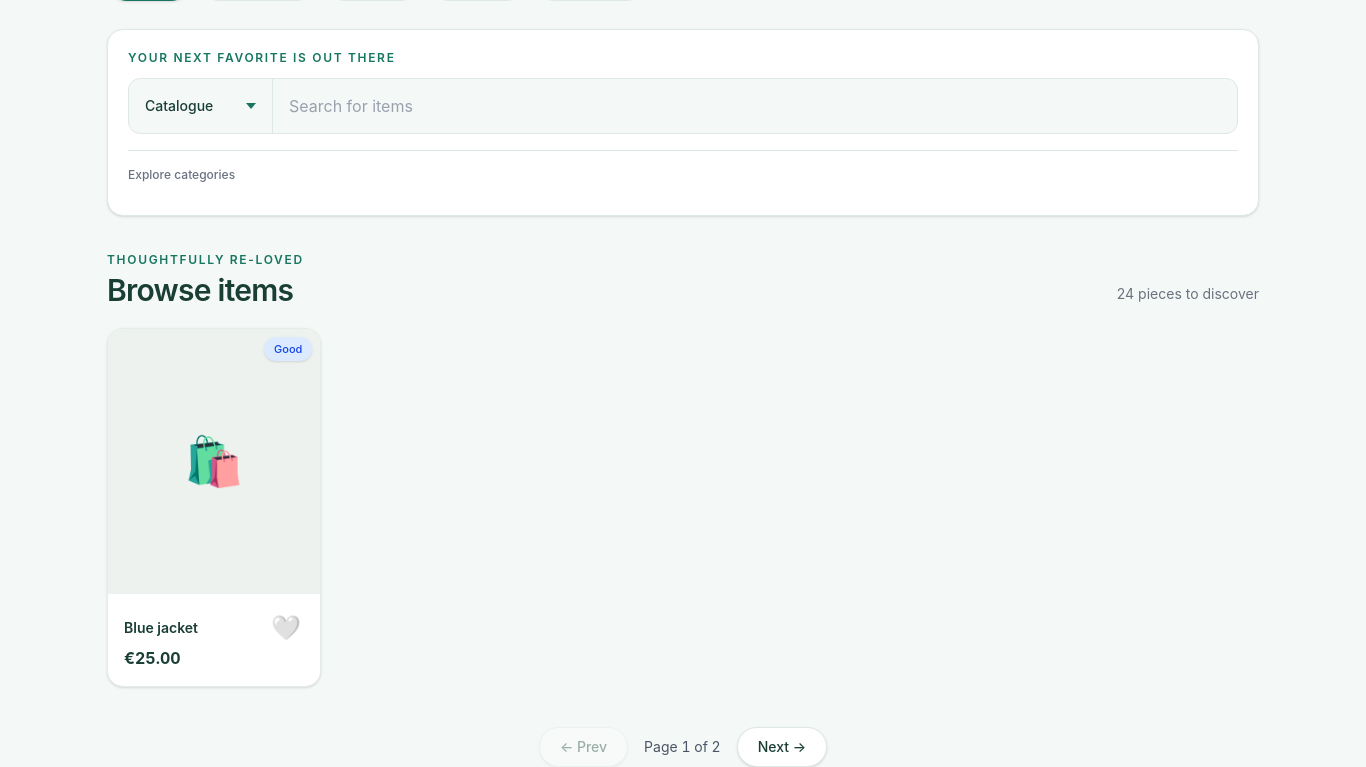
frontend account and failure flows › preserves catalogue pagination and resets it when searching
(page scrolled)
Expected: the text "Blue jacket" is shown, [124,619,198,636]
Expected: the button "← Prev" is disabled, [539,727,628,766]
Click the button "Next →" at point(782, 747), box [737,727,827,766]
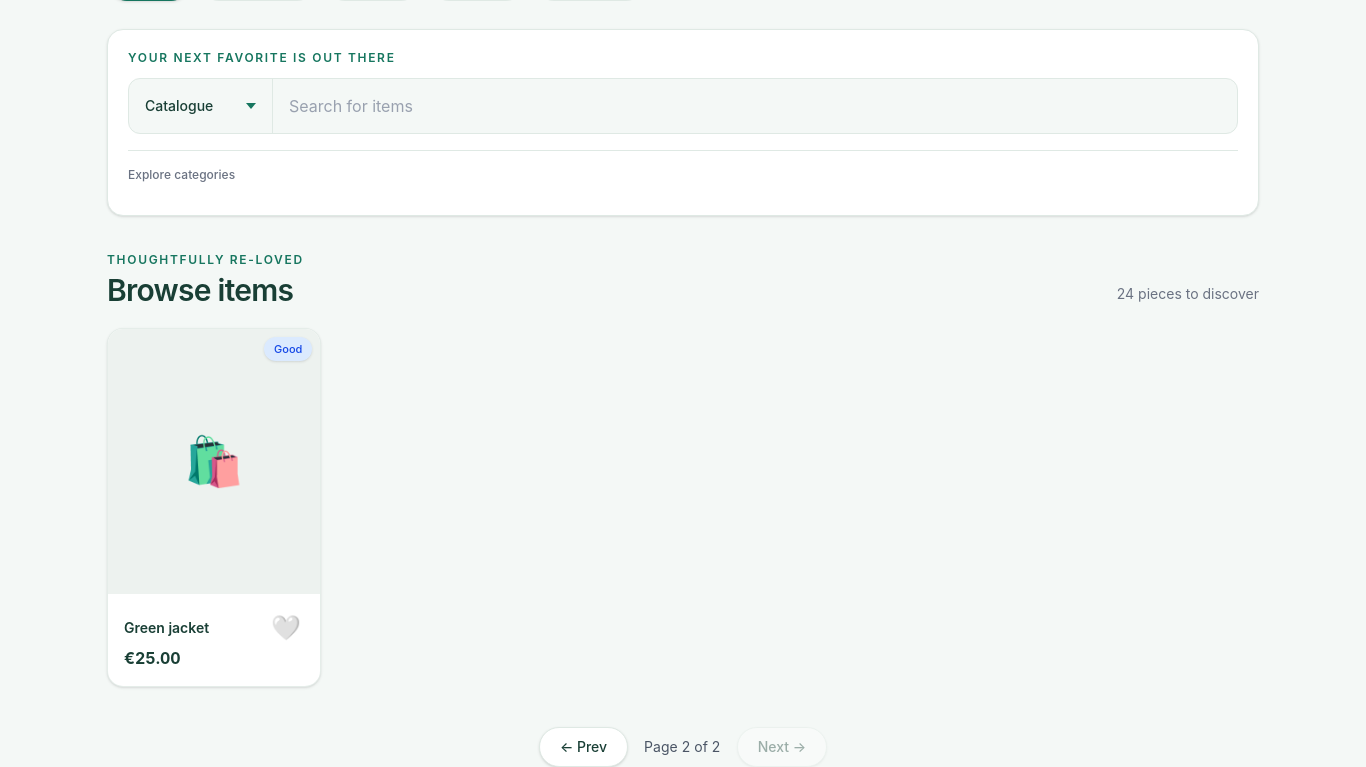
Expected: the text "Green jacket" is shown, [124,619,209,636]
Expected: the text "Page 2 of 2" is shown, [644,737,721,757]
Expected: the button "Next →" is disabled, [737,727,827,766]
Click the button "← Prev" at point(584, 747), box [539,727,628,766]
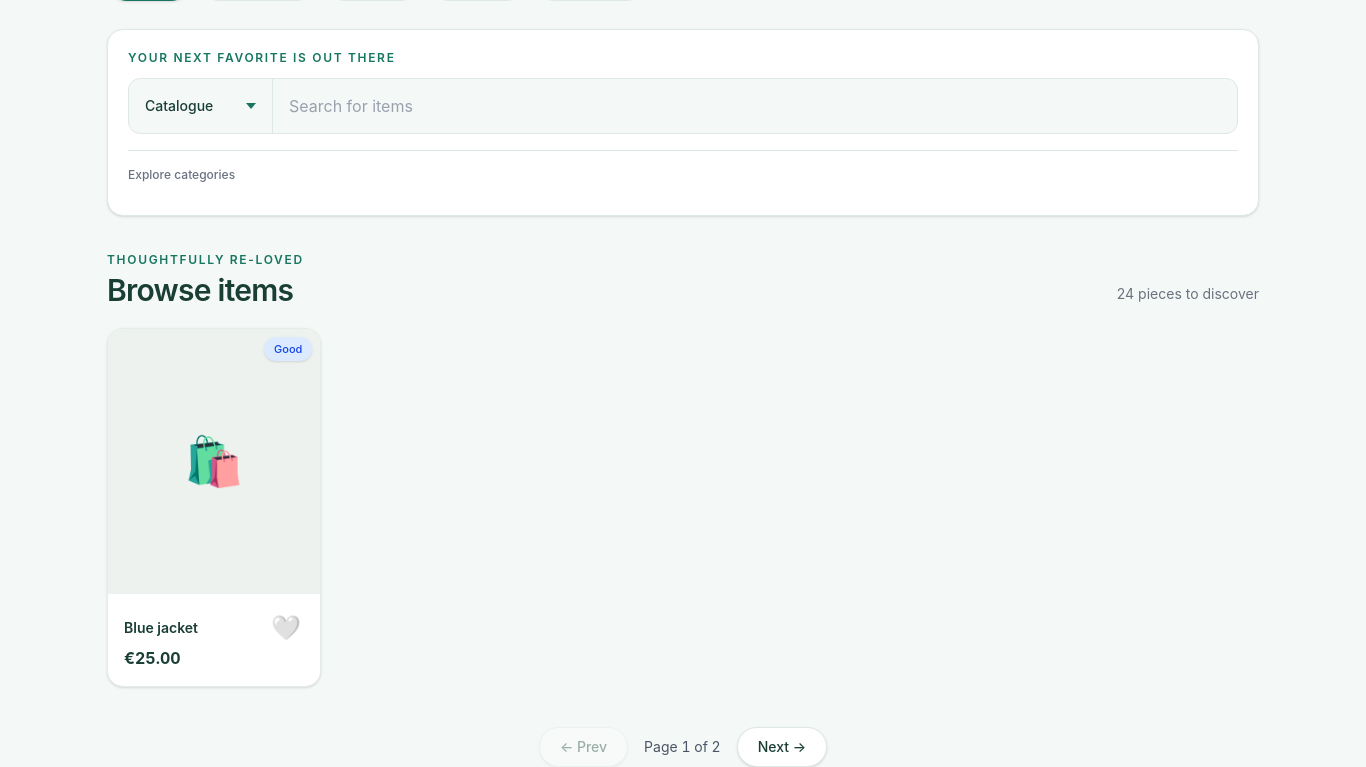
Expected: the text "Blue jacket" is shown, [124,619,198,636]
Click the button "Next →" at point(782, 747), box [737,727,827,766]
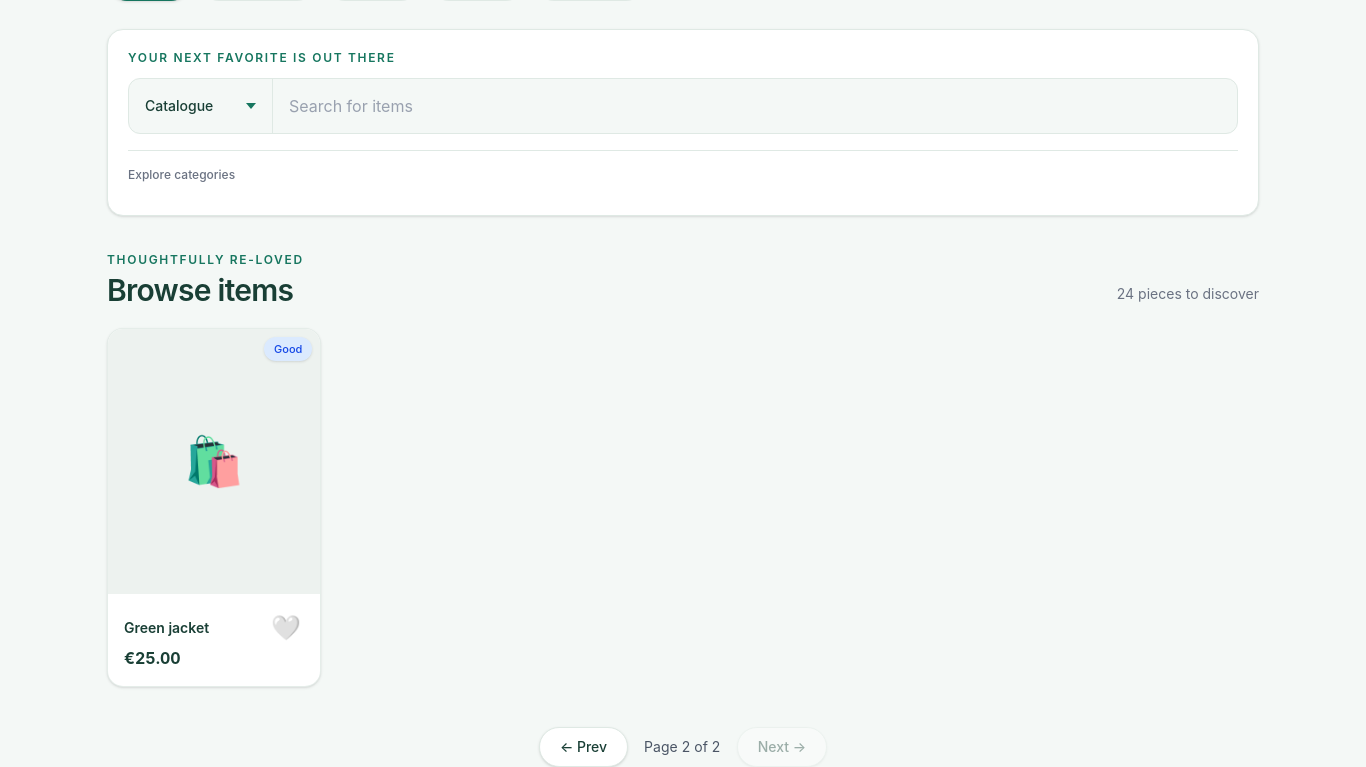
Expected: the text "Green jacket" is shown, [124,619,209,636]
Type "Blue" into the search field labelled "Search for items" at point(755, 106), box [273,79,1237,133]
(page scrolled)
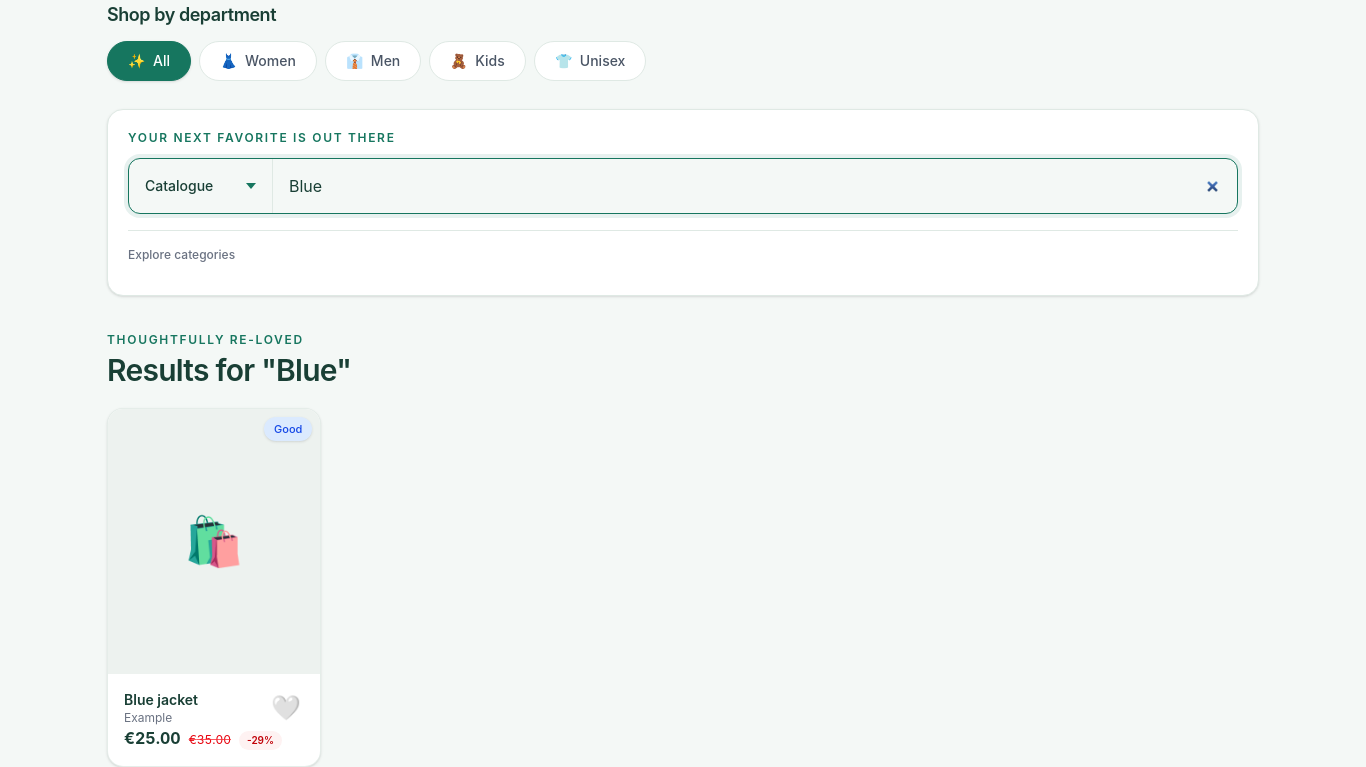
Expected: the text "Blue jacket" is shown, [124,691,198,708]
Clear the search field named "Search for items" at point(755, 186), box [273,159,1237,213]
(page scrolled)
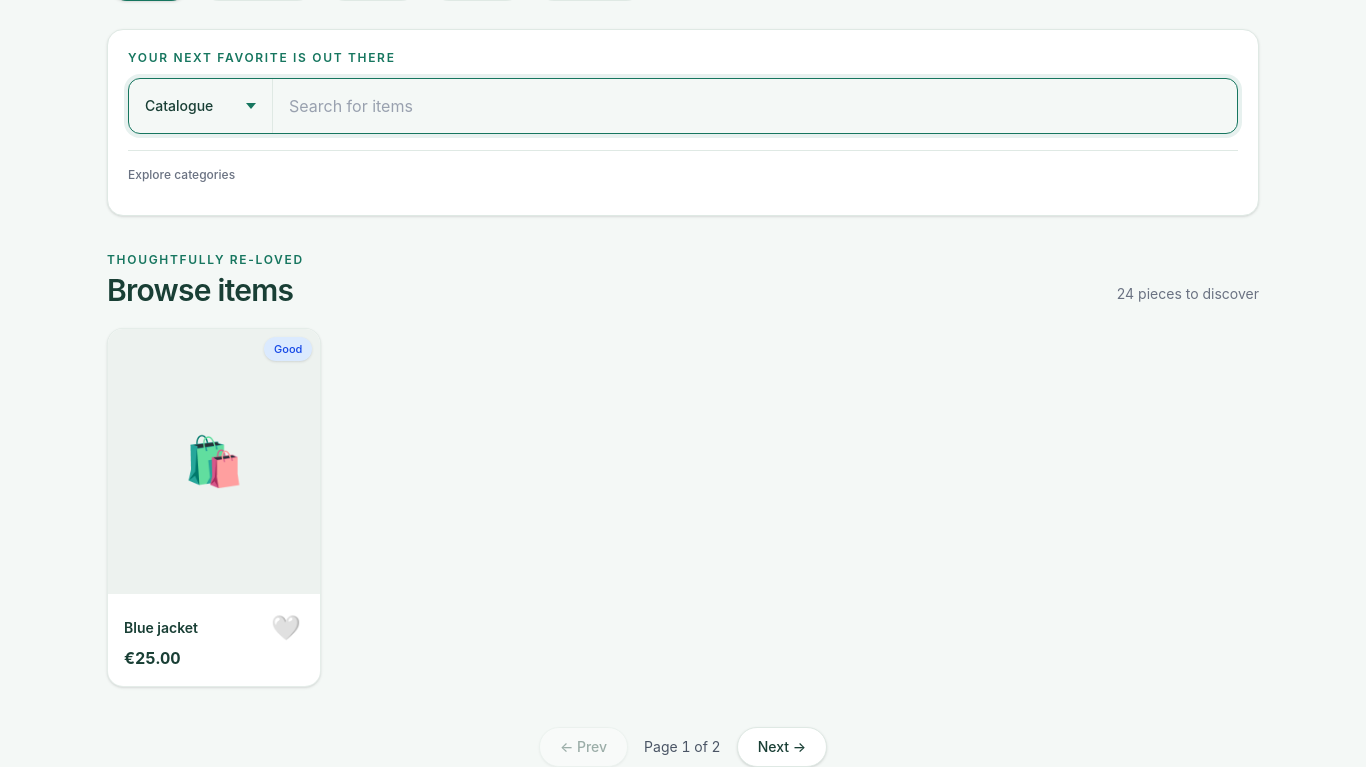
Expected: the text "Page 1 of 2" is shown, [644,737,721,757]
Expected: the button "← Prev" is disabled, [539,727,628,766]
